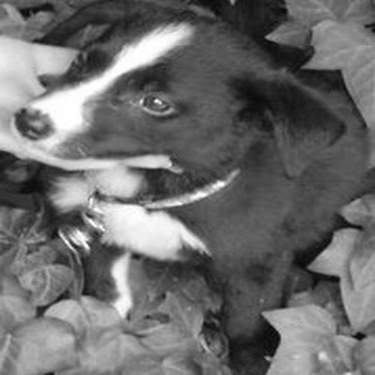dog: (5, 5, 370, 372)
